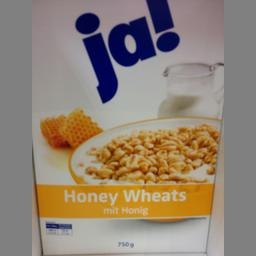cereal: (32, 0, 223, 255)
